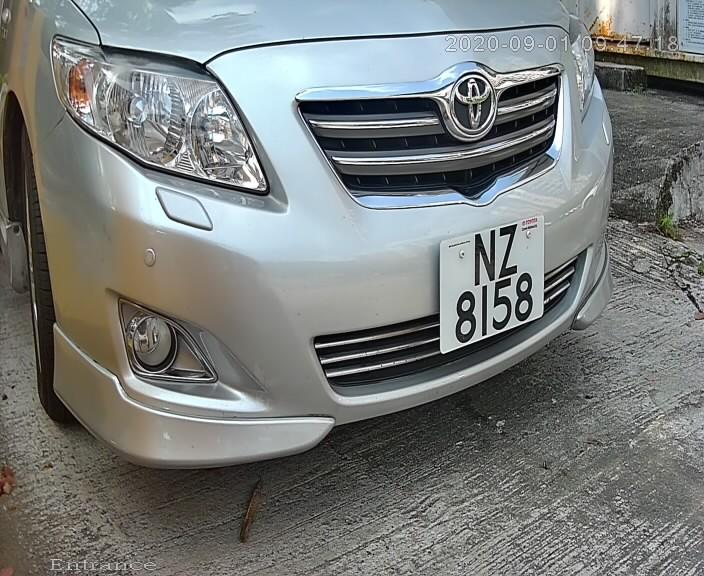License Plate: (431, 209, 554, 358)
